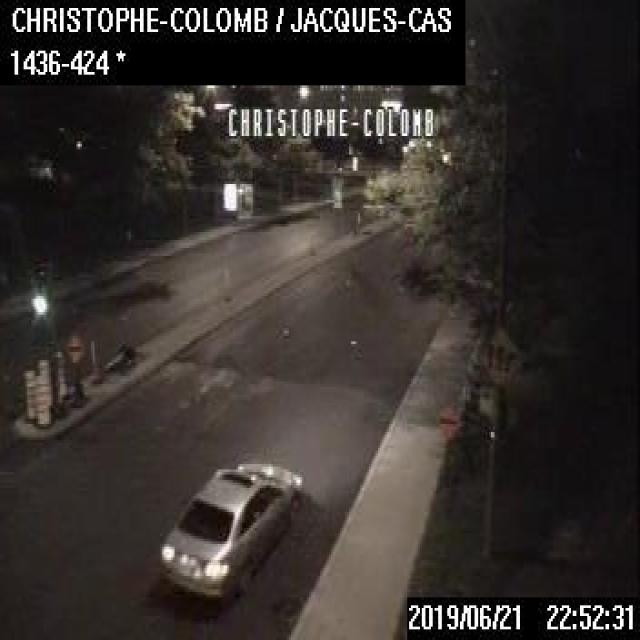construction: (66, 332, 86, 404), (32, 373, 51, 426), (36, 357, 54, 410), (23, 367, 35, 420), (55, 348, 66, 398)
vehicle: (156, 453, 302, 600)
